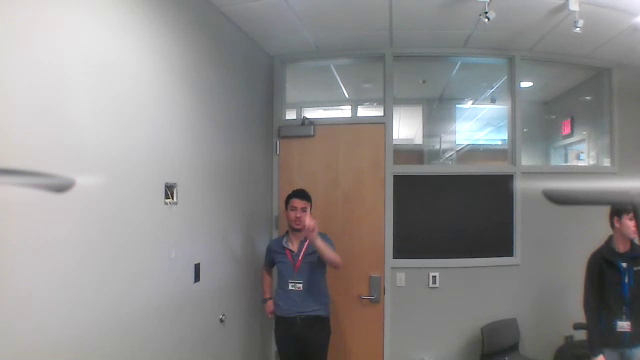up: (297, 202, 320, 238)
